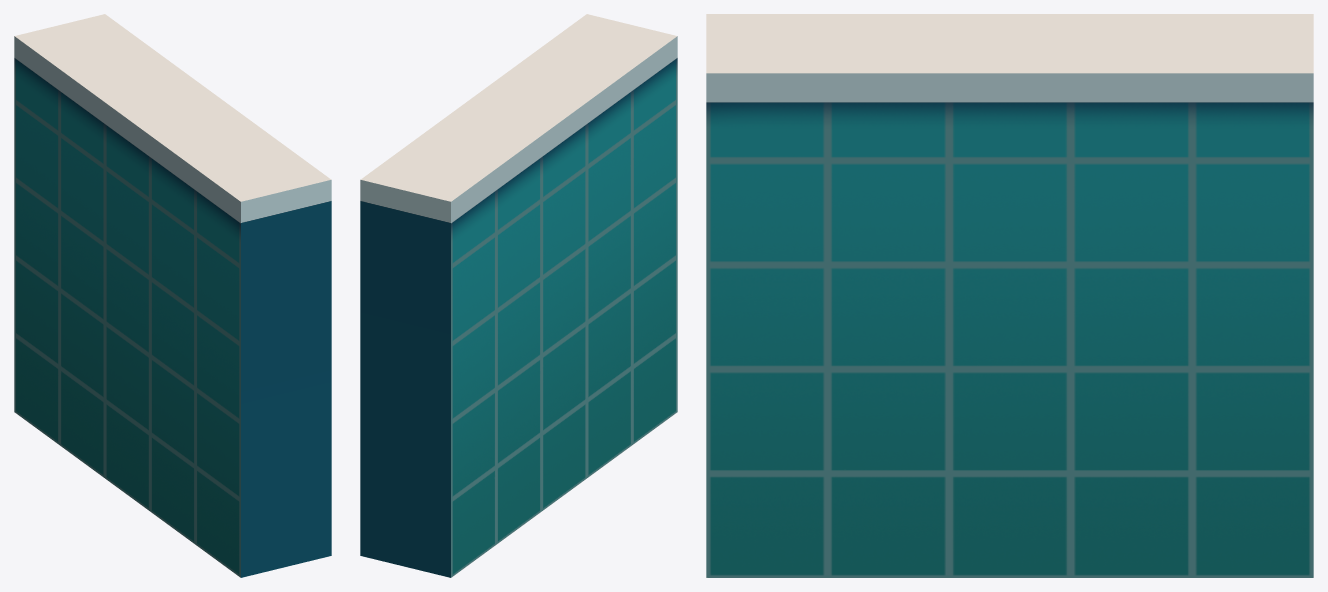
Rendered from Wall_Mexican.fbx.
3 views of the same model, side by side, from view 1: azimuth 30°, elevation 25°; view 2: azimuth 150°, elevation 25°; view 3: azimuth 270°, elevation 25° (orthographic). The views are drawn at different scales.
Visible parts, largest first — view 1: Wall; view 2: Wall; view 3: Wall.
Boxes of the visible parts, bbox=[...] form: Wall: bbox=[14, 14, 331, 577]; Wall: bbox=[360, 14, 677, 577]; Wall: bbox=[706, 14, 1313, 577].
Bounding box in the file's own units: 23.1 × 91.58 × 99.93.
